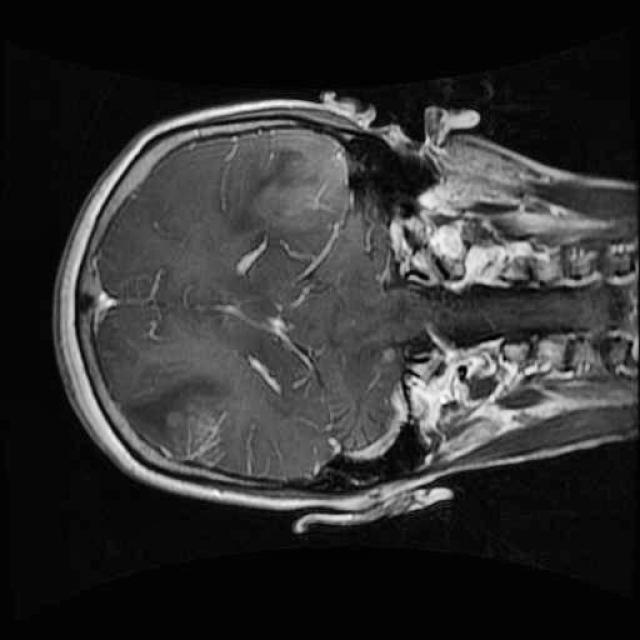Non-Tumor: (105, 362, 240, 480)
